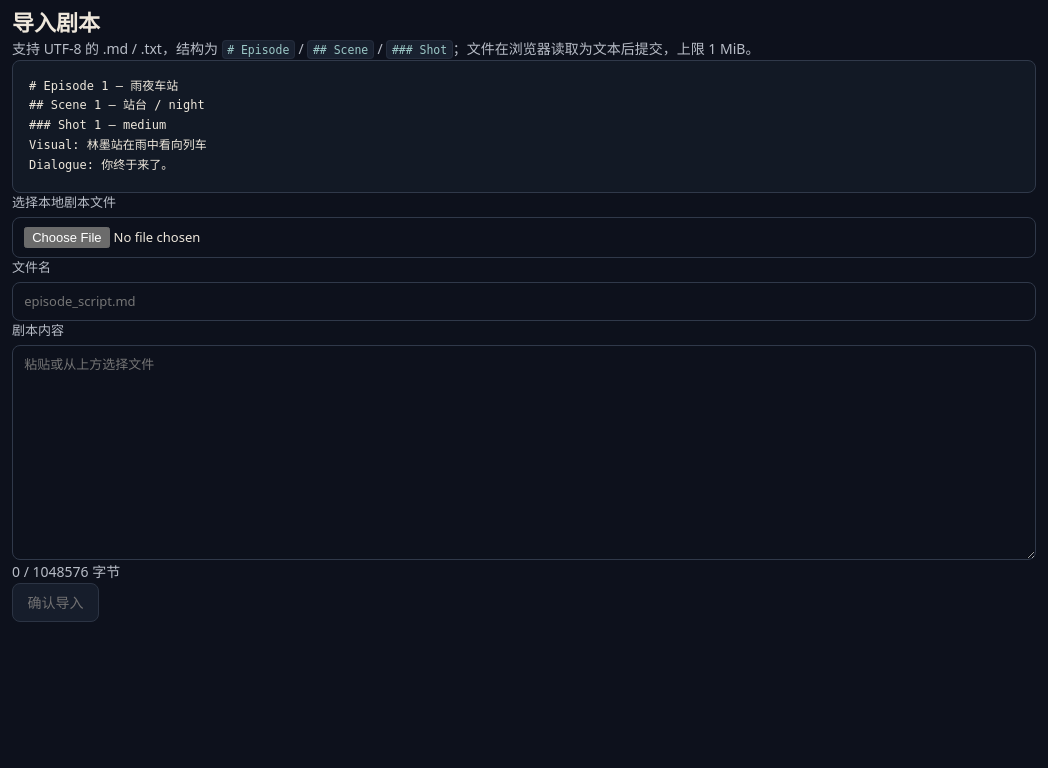
ScriptImportPanel › separates a re-imported identical script from a new creation
This screenshot has width=1048, height=768.
Type "# Episode 1 — Rain" into the text box labelled "剧本内容" at (524, 453), box 12,345 -> 1036,560
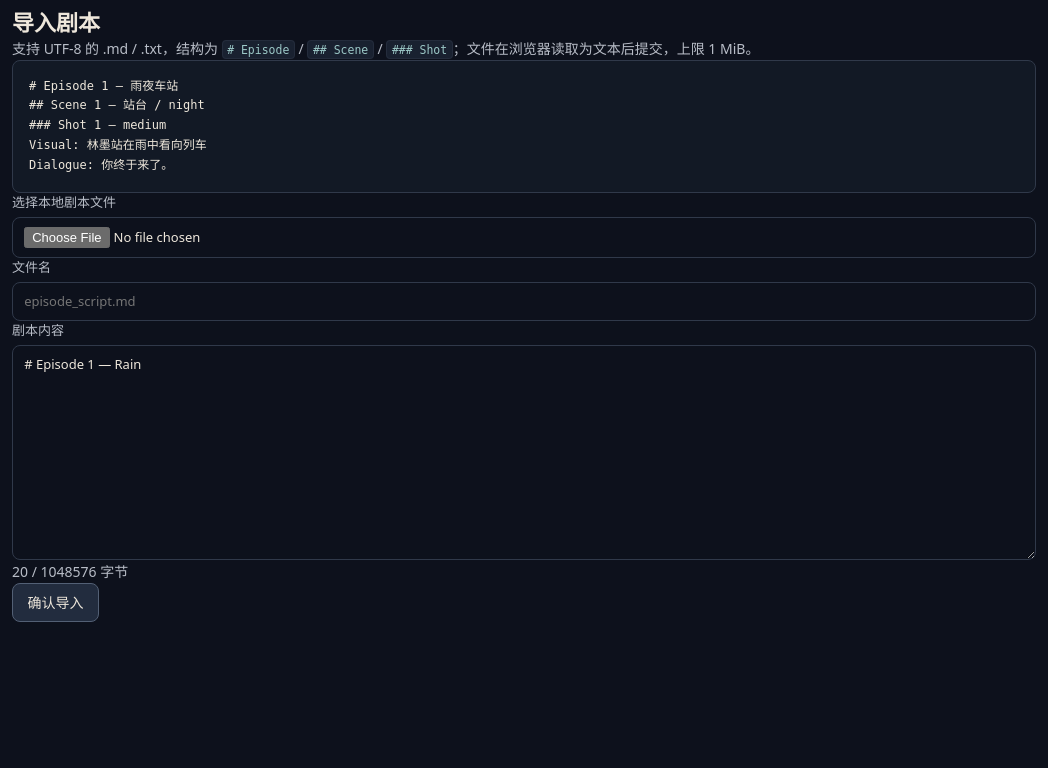
Click the button with test id "script-import-submit" at (55, 602), box 12,583 -> 99,622
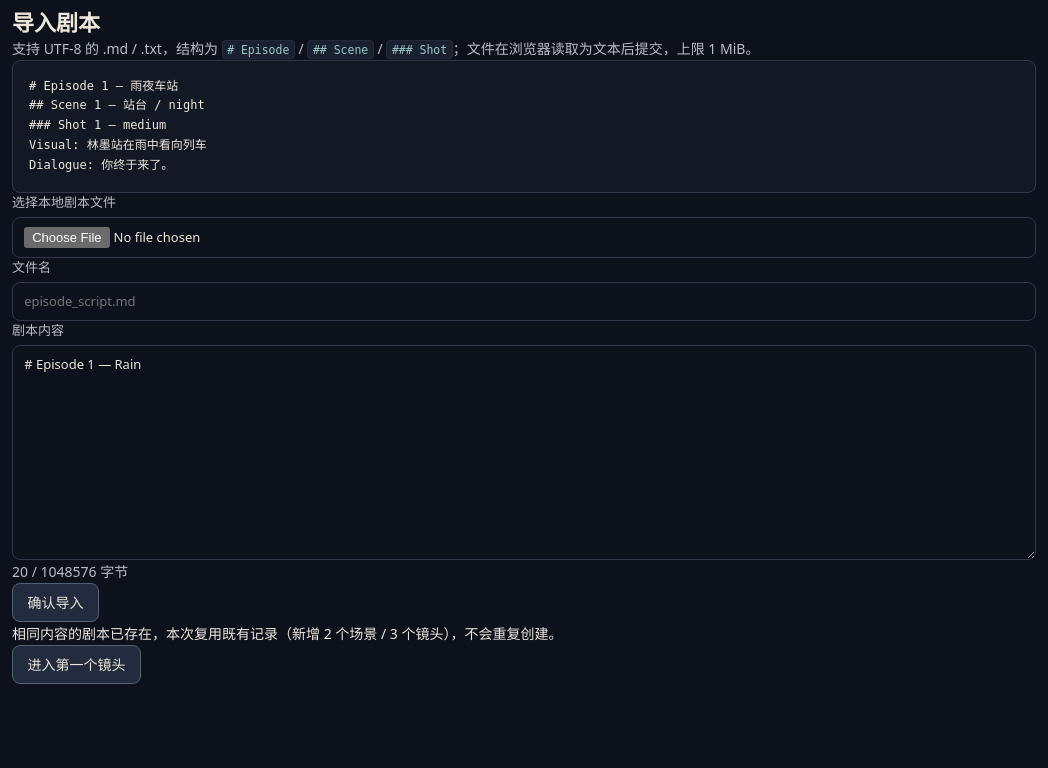
Check: the message with test id "script-import-result" shows "不会重复创建", box 12,624 -> 562,643
